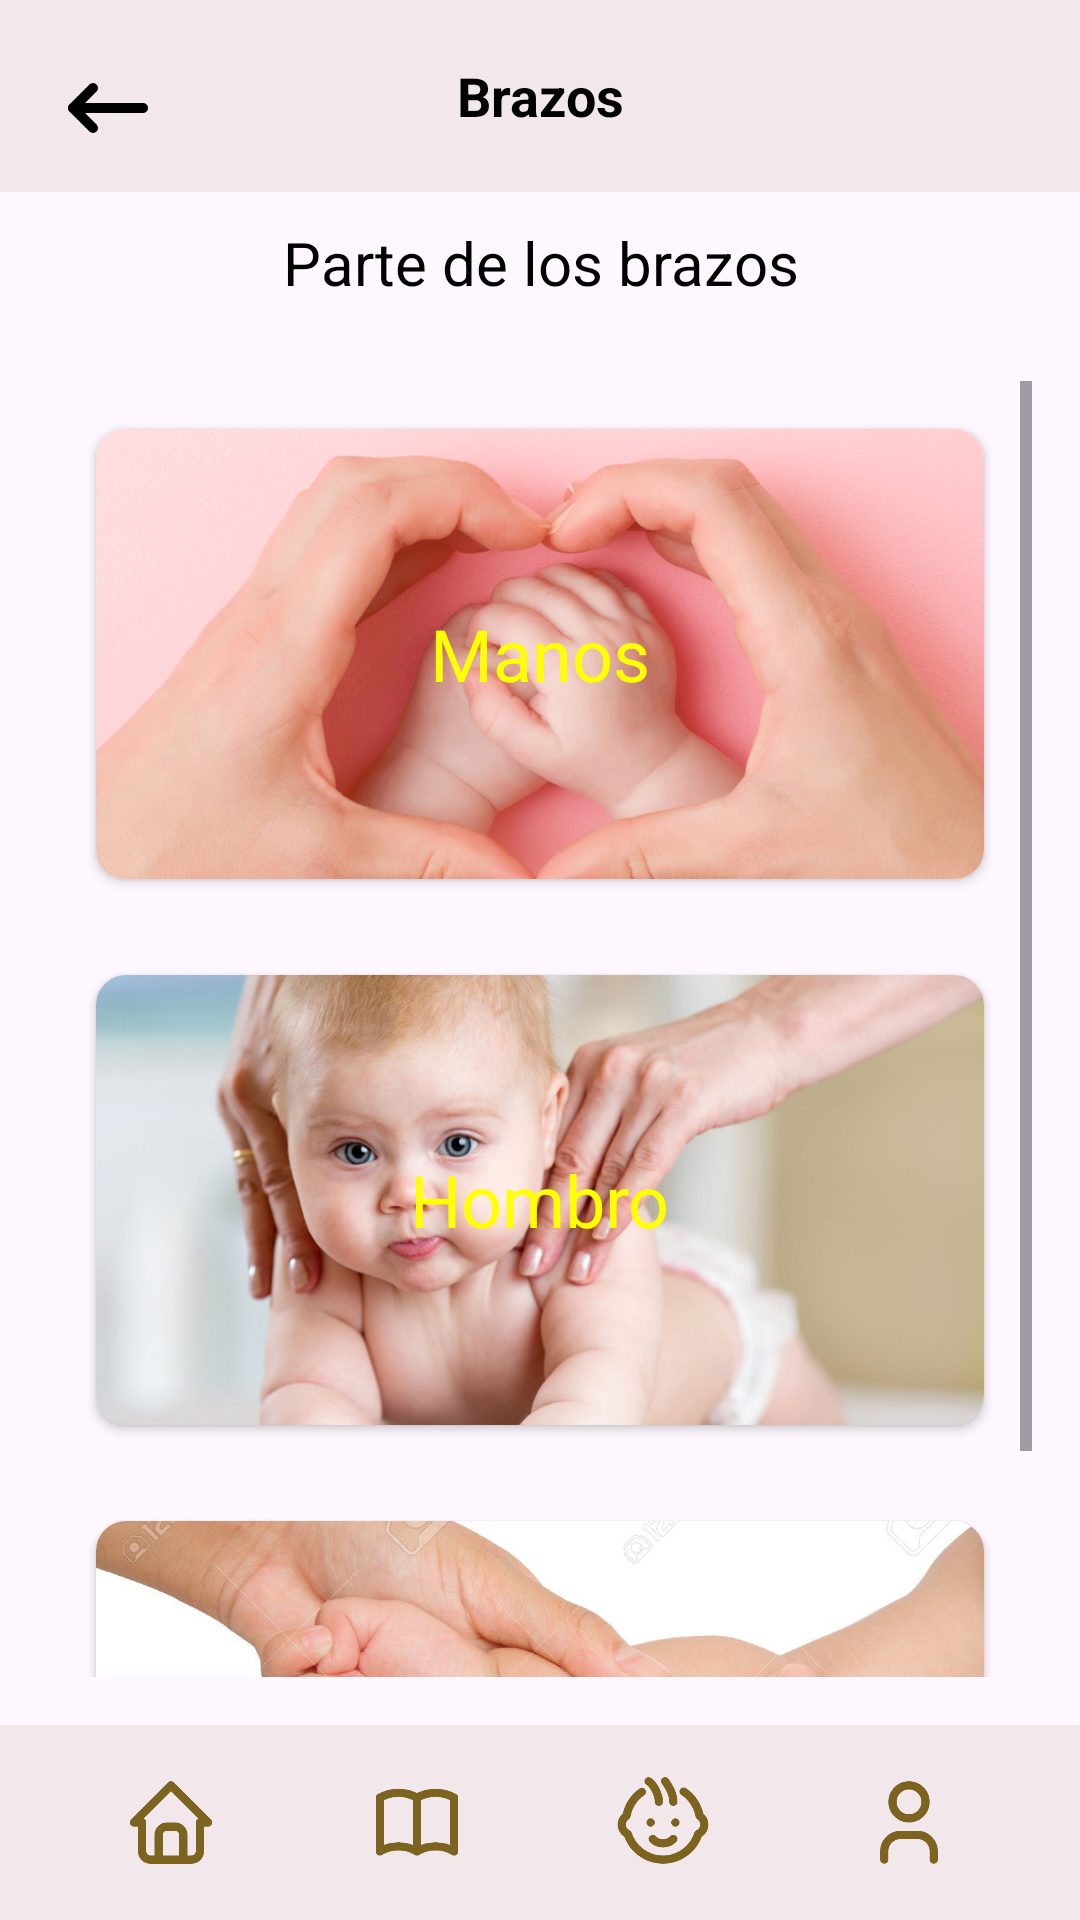

Locate icon controls on the screen. Image size 1080 × 1920, boxes as (x1, y1, x2, y2).
book: (376, 1789, 458, 1856)
home: (130, 1781, 212, 1864)
moodboy: (617, 1777, 709, 1864)
personaa: (880, 1781, 938, 1864)
